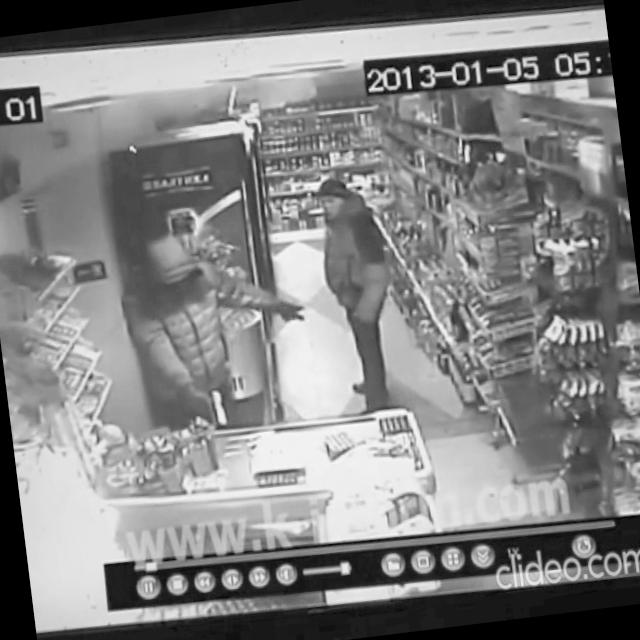gun: (208, 386, 228, 428)
person: (312, 169, 406, 416)
person with a gun: (114, 220, 318, 441)
